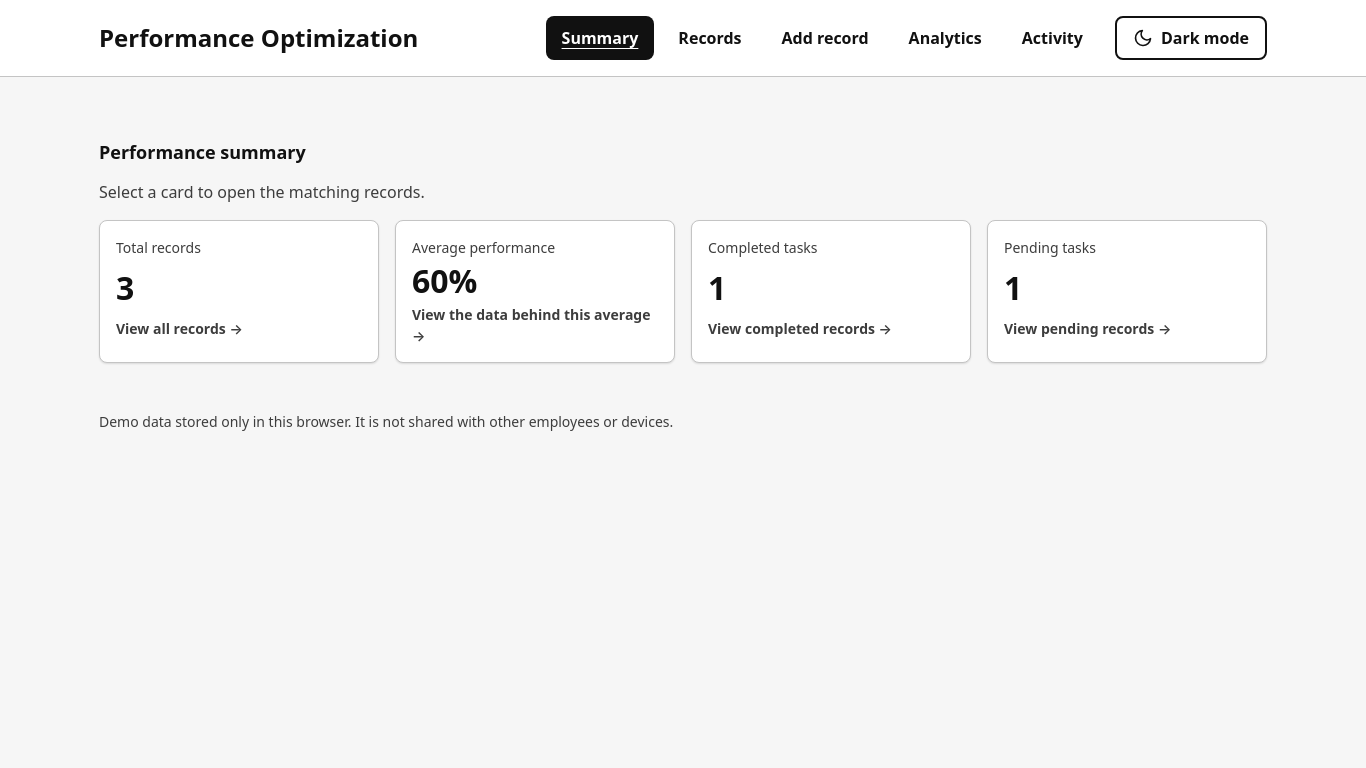
Test: interactive summary cards › Total records opens all records with no filters
The image size is (1366, 768).
What coordinates should you click on to do the following:
click the button "Total records 3 View all records →"
I would click on:
 (158, 247)
Its box is [99,220,379,363].
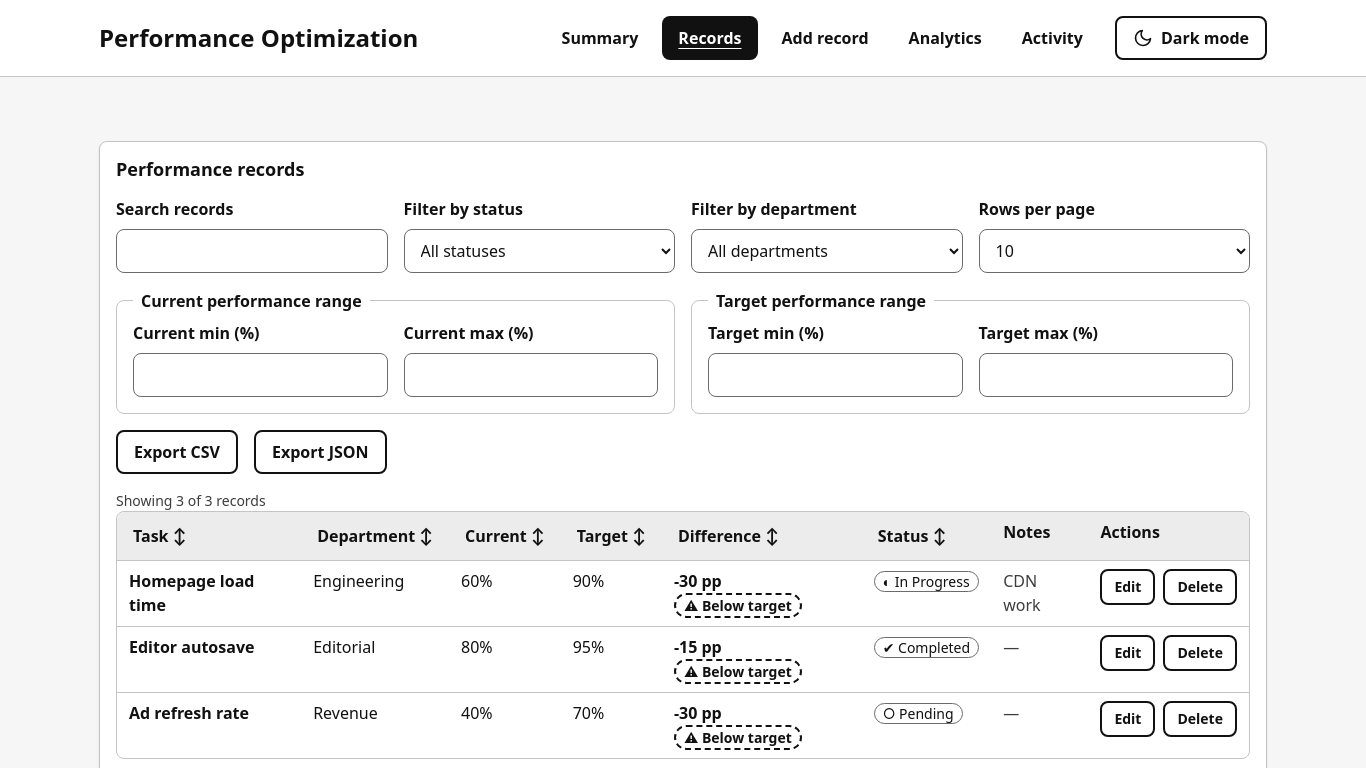
Now the heading "Performance records" is shown, box [116,157,304,181]
Now the dropdown labelled "Filter by status" shows "All statuses", box [404,228,675,272]
